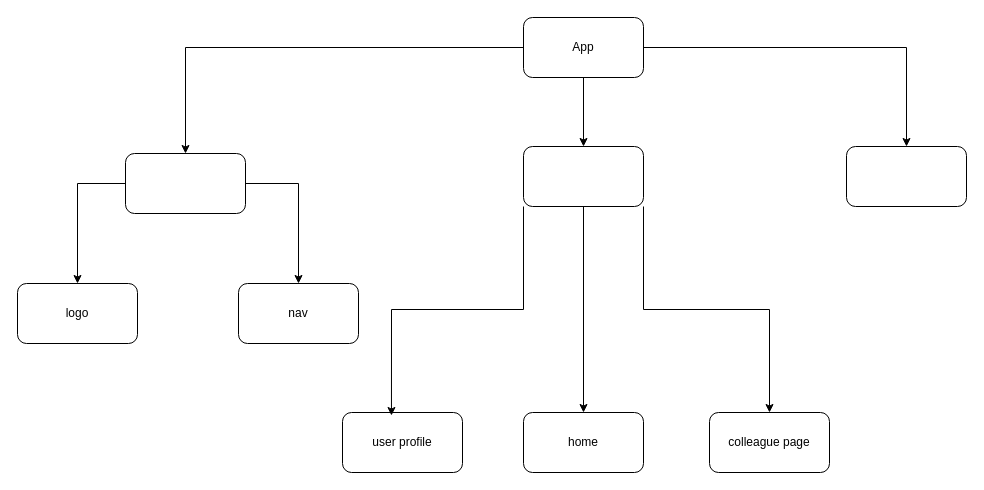
Some shapes in this 984 by 490 pixel diagram are drawn without their labels. The shapes that lost their labels are listed below. From the top down, each one's centre as x and y in pixels, then its label:
At point (185, 183): "header".
At point (583, 176): "main".
At point (906, 176): "footer".
